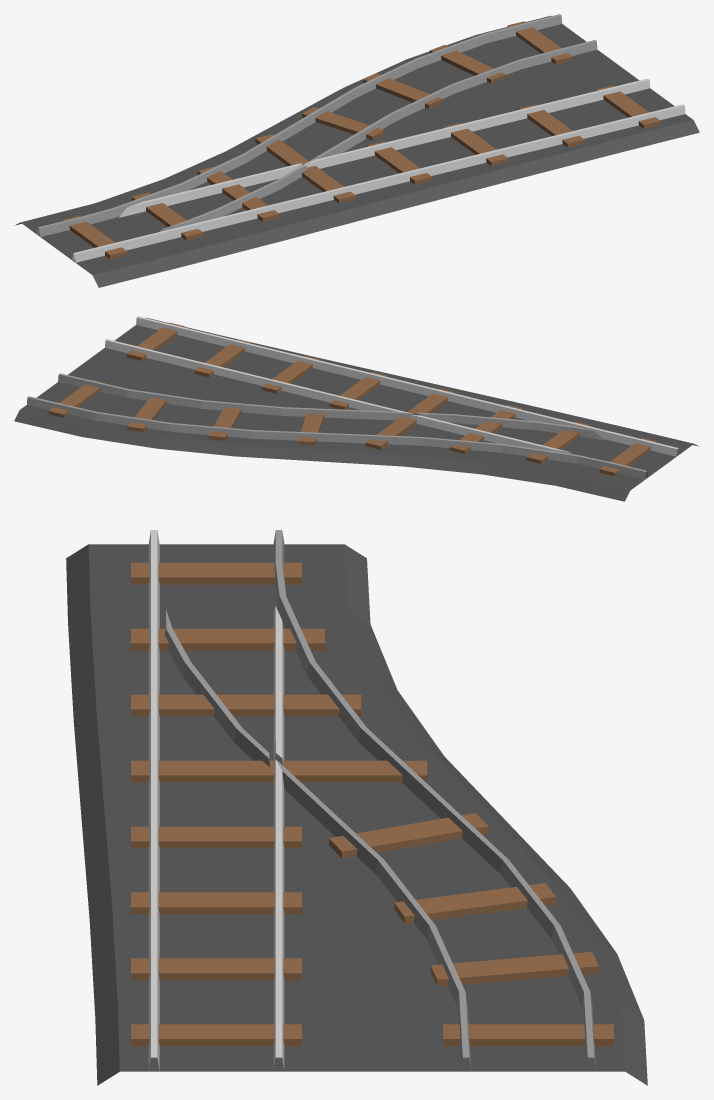
Rendered from 1-2_split_left_small.fbx.
The picture shows the model from 3 angles, top to bottom: view 1: azimuth 30°, elevation 25°; view 2: azimuth 150°, elevation 25°; view 3: azimuth 270°, elevation 25°; orthographic projection. The views are drawn at different scales.
Visible parts, largest first — view 1: 1-2_split_left_small; view 2: 1-2_split_left_small; view 3: 1-2_split_left_small.
Boxes of the visible parts, <box> form: 1-2_split_left_small: <box>15,14,699,287</box>; 1-2_split_left_small: <box>14,316,699,501</box>; 1-2_split_left_small: <box>66,530,647,1085</box>.
Bounding box in the file's own units: 8 × 0.2 × 3.73.
